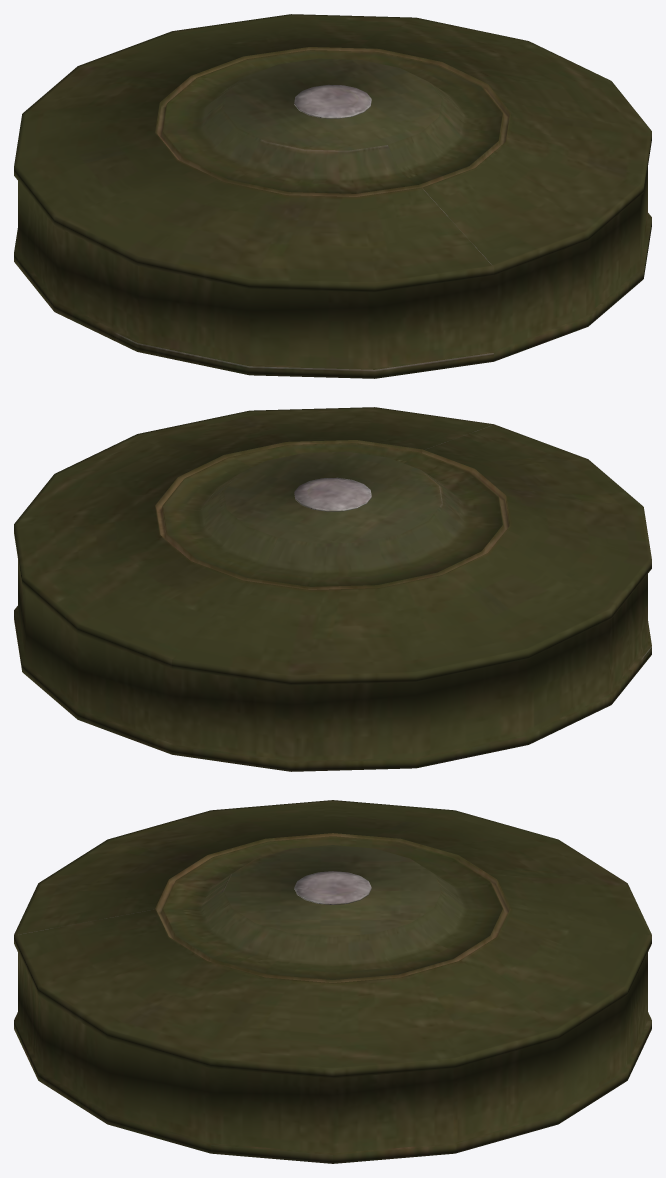
File: at_mine.glb
3 renders of one model, top to bottom at view 1: azimuth 30°, elevation 25°; view 2: azimuth 150°, elevation 25°; view 3: azimuth 270°, elevation 25°, orthographic.
Parts seen in each view (by area): view 1: AT_MINE; view 2: AT_MINE; view 3: AT_MINE.
Part boxes in pixels (x1,y1,x2,y2): AT_MINE: (14, 14, 651, 378); AT_MINE: (14, 407, 651, 771); AT_MINE: (14, 800, 651, 1163).
Bounding box in the file's own units: 0.34 × 0.0846 × 0.34.
1 material, 1 textured.
